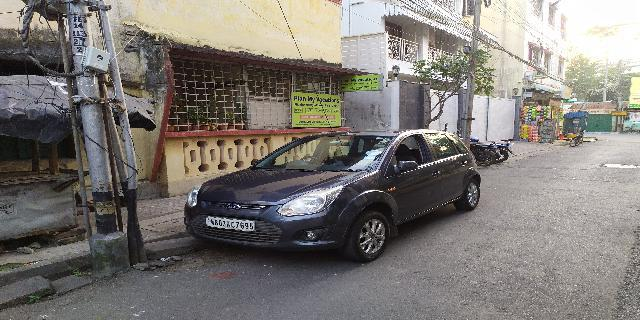Car: (182, 118, 481, 264)
Motorbike: (469, 135, 511, 168)
